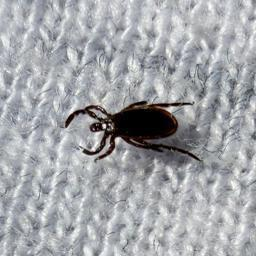Ixodes scapularis: (63, 99, 202, 164)
